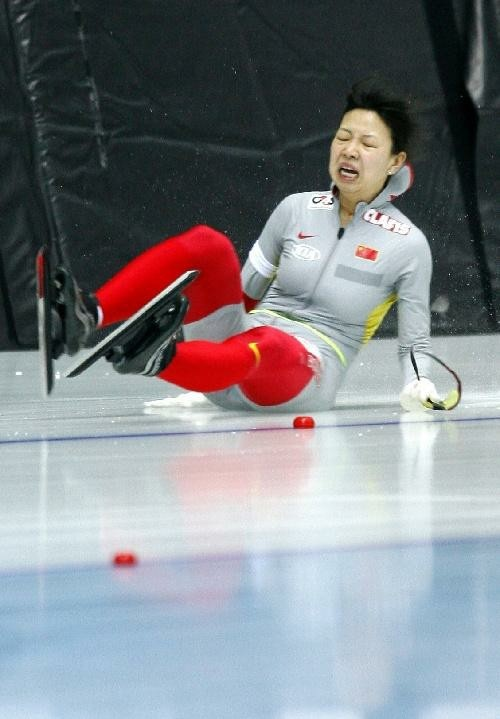falling: (39, 68, 460, 422)
